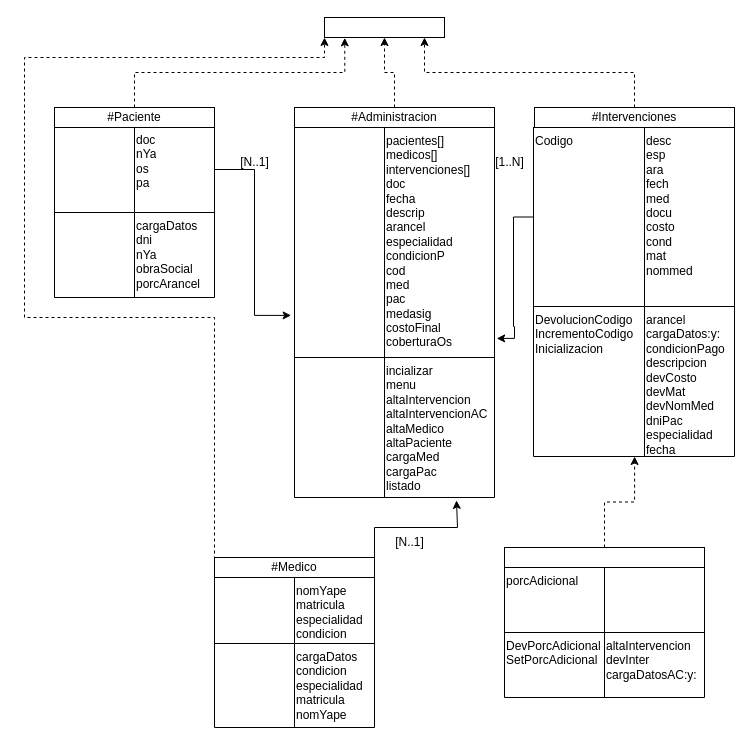
Image size: 752x748. Some labels were removed from this diagram. Here are the shapes that lost their labels. From the top down, the centre of each, then its label:
point (384, 27): #Object
point (604, 557): #IntervencionesA.C.
